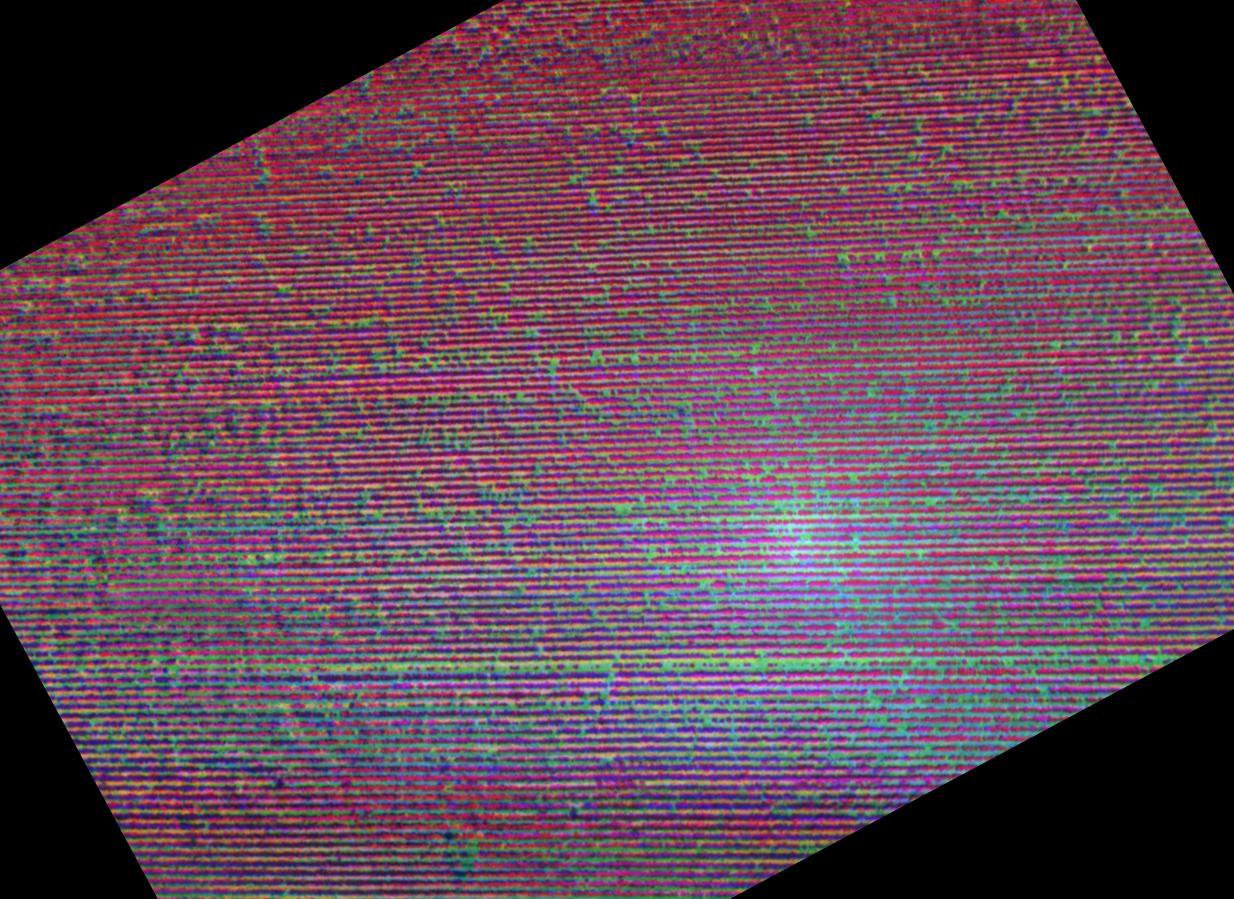dc: (758, 478, 850, 573), (813, 655, 896, 760), (126, 660, 208, 748), (1026, 613, 1085, 697), (483, 643, 546, 709)
